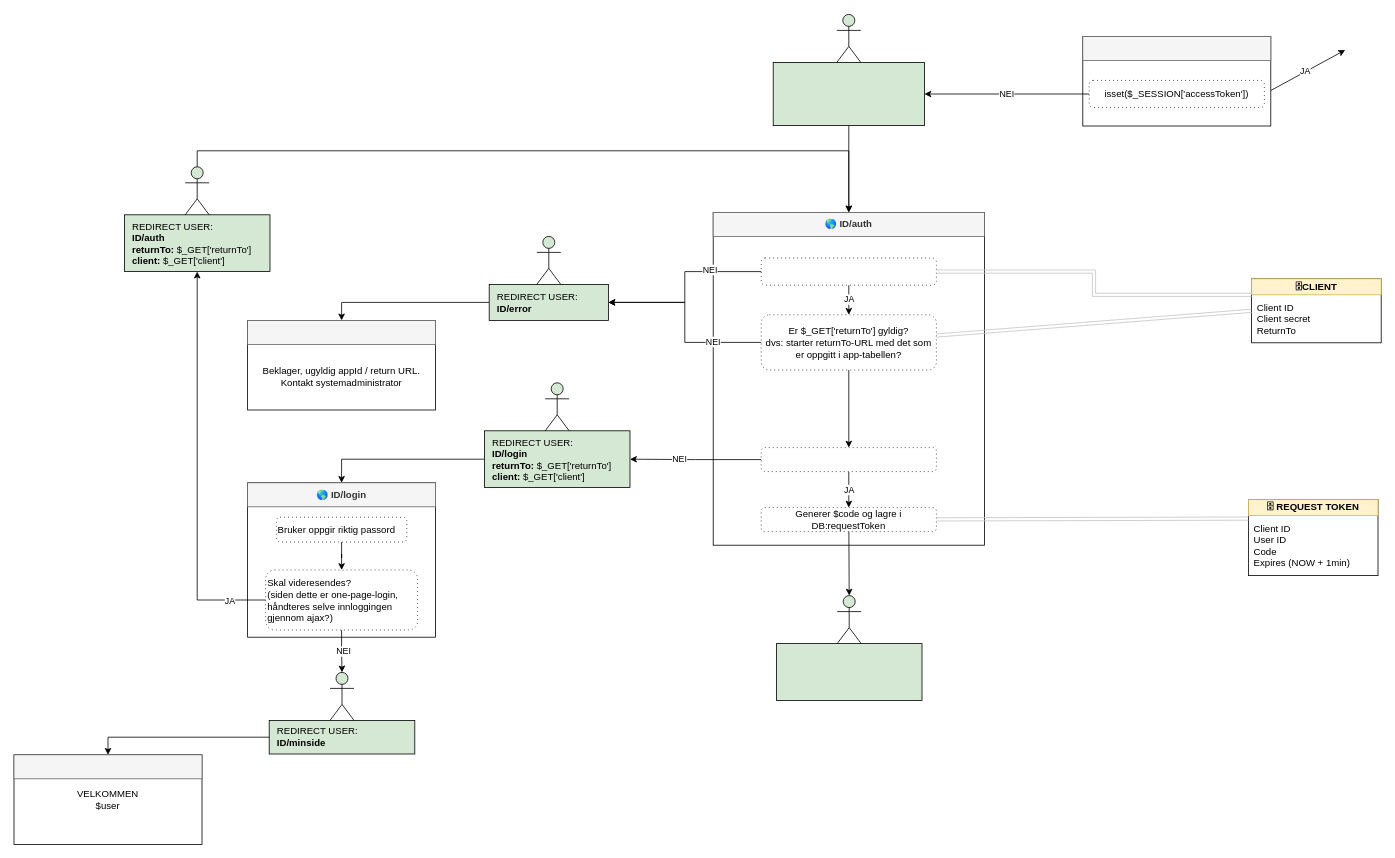
Some shapes in this 1395 by 858 pixel diagram are drawn without their labels. Here are the shapes that lost their labels. From the top down, the centre of each, then its label:
At [1176,48]: "🌎 DELTA/minside".
At [848,94]: "REDIRECT USER: ID/auth returnTo: DELTA/requestToken client: $delta_client_id".
At [848,271]: "Finnes $_GET['appId'] i databasen?".
At [341,332]: "🌎 ID/error".
At [848,459]: "Er brukeren logget inn?".
At [849,671]: "REDIRECT USER: $returnTo code: $code".
At [107,766]: "🌎 ID/minside".
